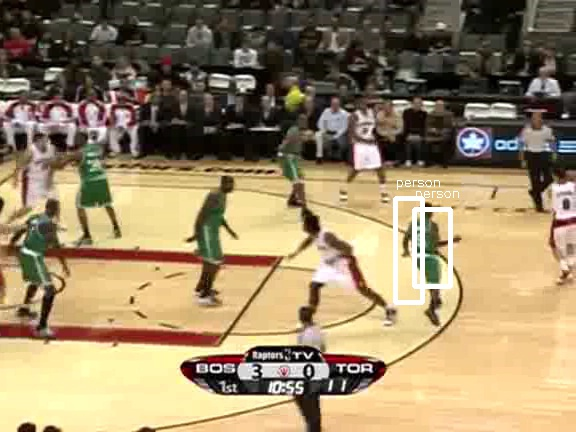person: (408, 211, 442, 292), (407, 211, 441, 292), (409, 211, 443, 292), (408, 210, 442, 291), (408, 212, 442, 293)
target_negative: (389, 120, 532, 416), (404, 94, 486, 320), (479, 87, 534, 423), (199, 26, 434, 99), (161, 412, 546, 422), (525, 361, 527, 415)
